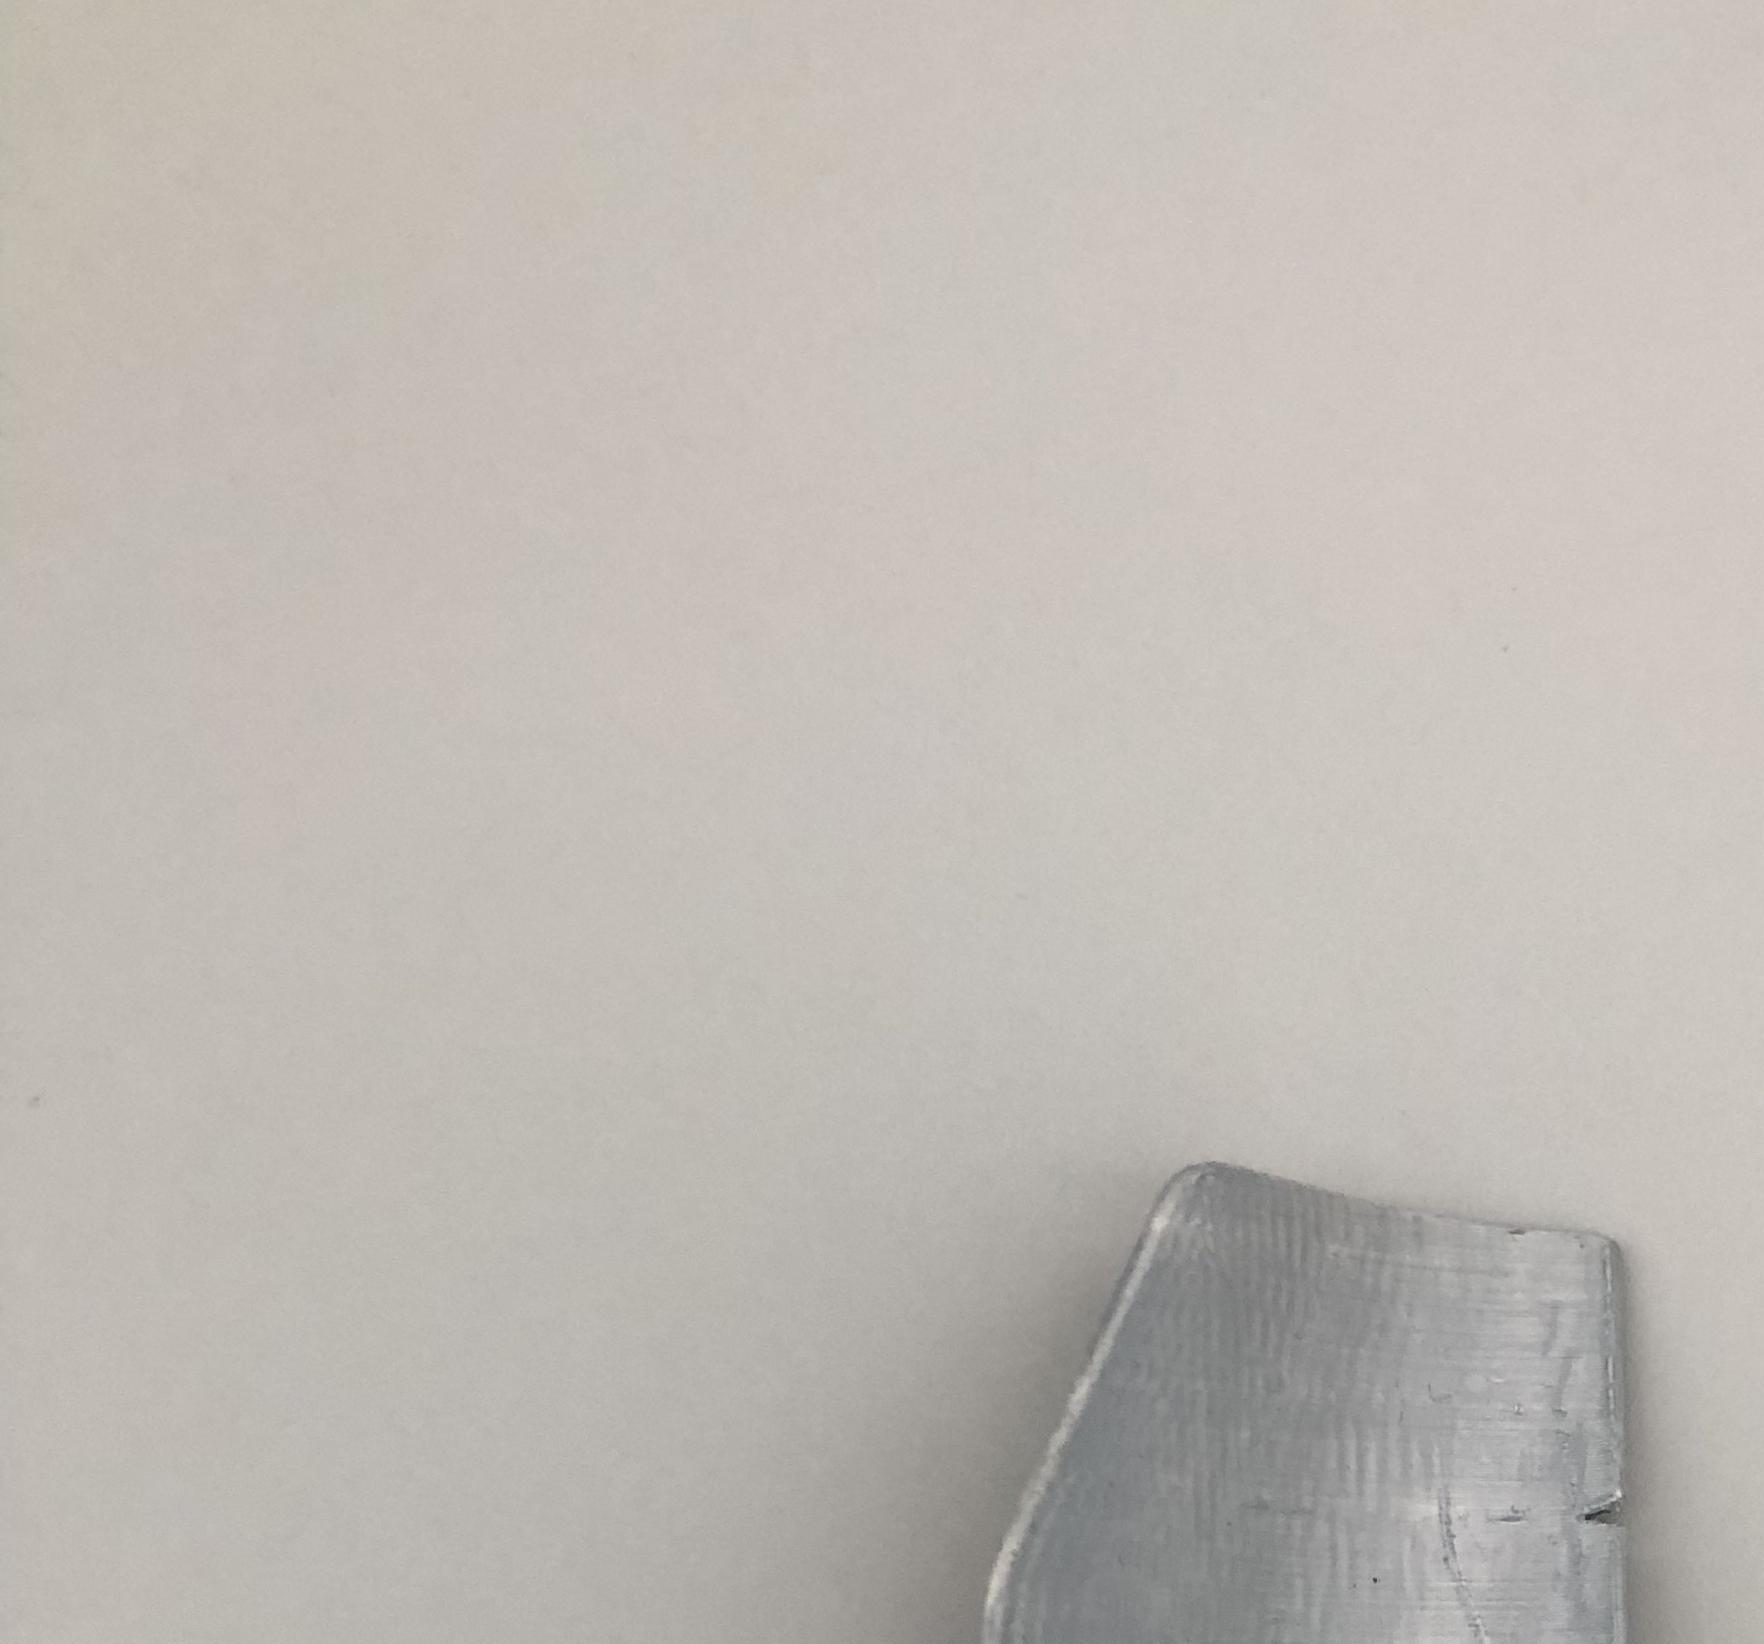groove: (1569, 1483, 1633, 1553)
